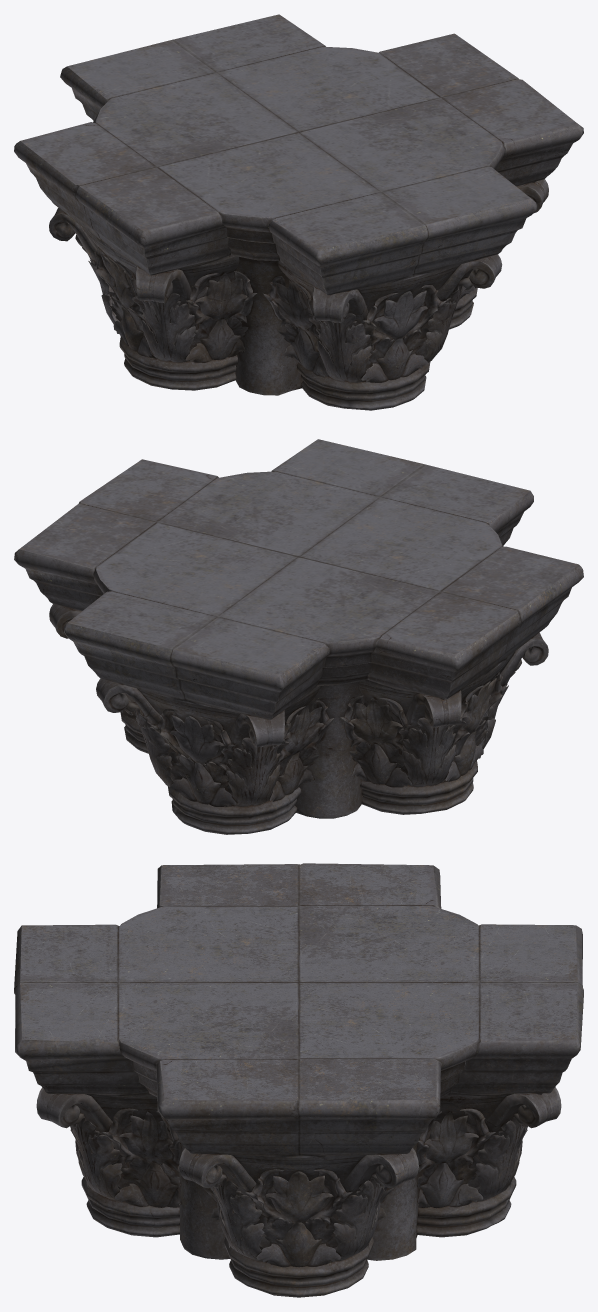
The model's file is SM_Pillar_Top_02b_Inst.fbx.
The picture shows the model from 3 angles, top to bottom: view 1: azimuth 30°, elevation 25°; view 2: azimuth 150°, elevation 25°; view 3: azimuth 270°, elevation 25°; orthographic projection. The views are drawn at different scales.
Parts seen in each view (by area): view 1: SM_Pillar_Top_02b_Inst; view 2: SM_Pillar_Top_02b_Inst; view 3: SM_Pillar_Top_02b_Inst.
Boxes of the visible parts, left/top/right/bottom form: SM_Pillar_Top_02b_Inst: left=14, top=14, right=583, bottom=410; SM_Pillar_Top_02b_Inst: left=14, top=439, right=583, bottom=834; SM_Pillar_Top_02b_Inst: left=14, top=863, right=583, bottom=1297.
Size of the model in its own units: 340 by 150 by 341.
1 material, 1 textured.
